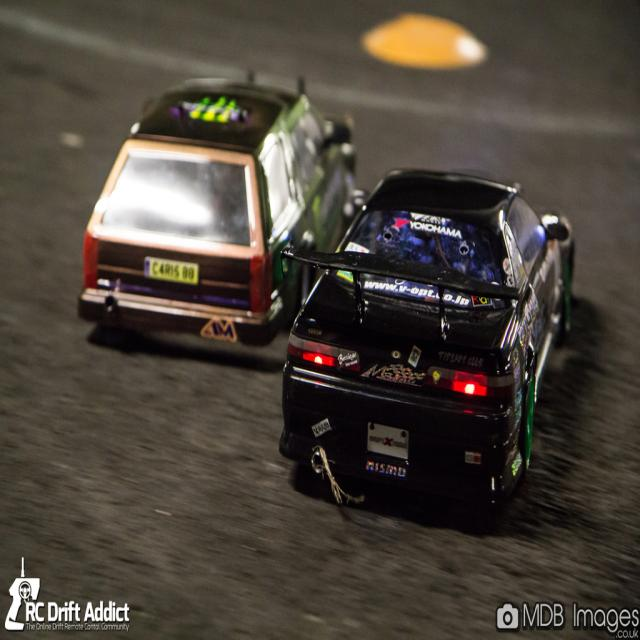car: (282, 161, 571, 517)
